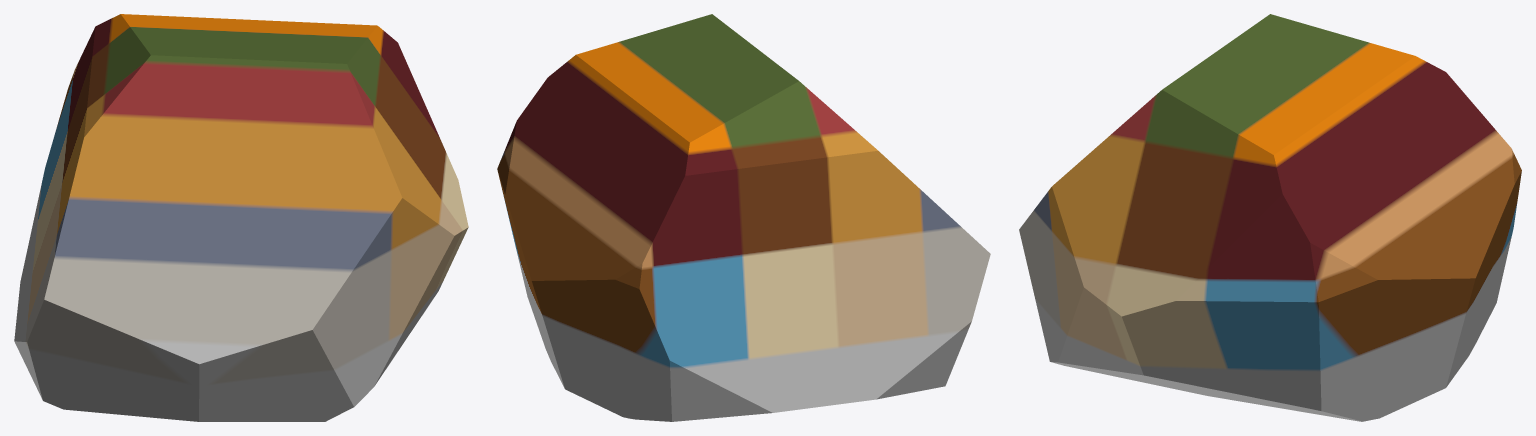
File: Rock_01.fbx
The picture shows the model from 3 angles, left to right: view 1: azimuth 30°, elevation 25°; view 2: azimuth 150°, elevation 25°; view 3: azimuth 270°, elevation 25°; orthographic projection. The views are drawn at different scales.
Parts seen in each view (by area): view 1: Rock_01; view 2: Rock_01; view 3: Rock_01.
Part boxes in pixels (x1,y1,x2,y2): Rock_01: (14,14,468,421); Rock_01: (497,14,990,421); Rock_01: (1019,14,1521,421).
Bounding box in the file's own units: 1.43 × 1.07 × 1.39.
